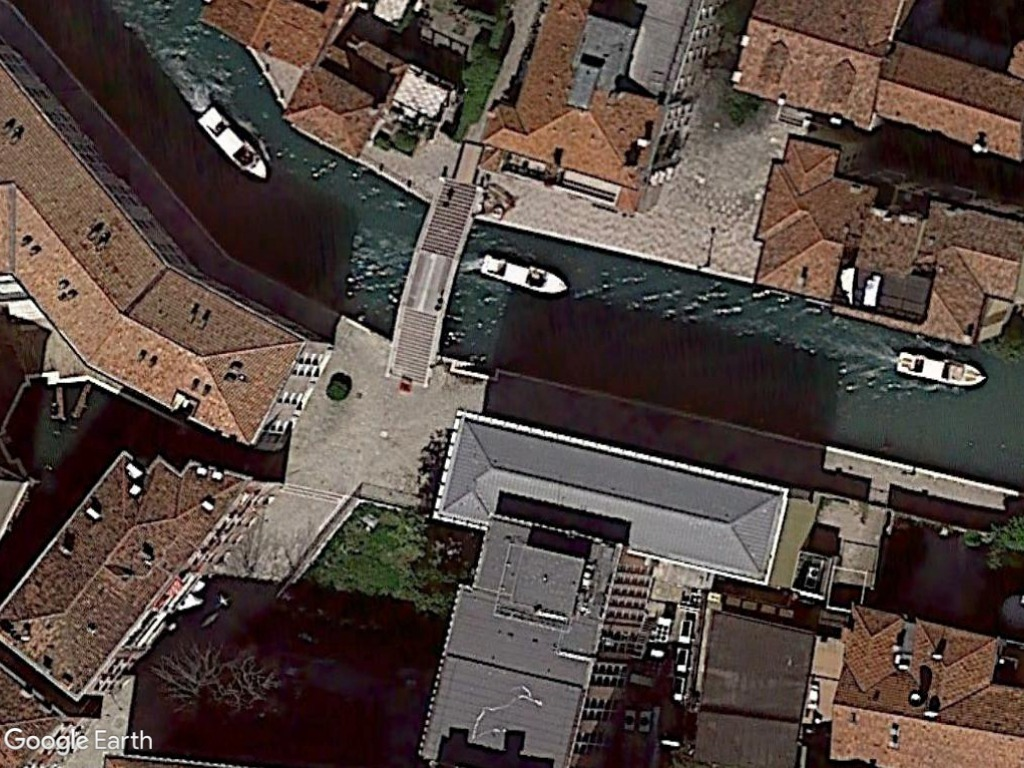boat: (190, 104, 273, 182), (476, 247, 573, 299), (892, 348, 990, 389)
